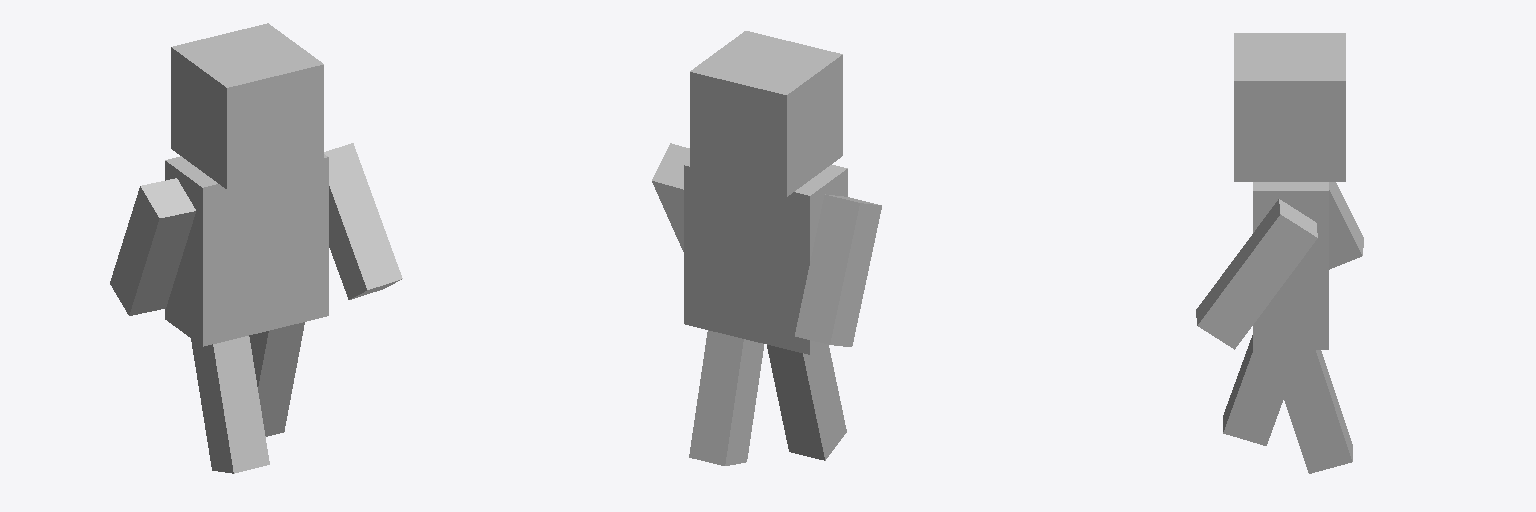
File: humanblock-bone2-walk_30.obj
3 renders of one model, left to right at view 1: azimuth 30°, elevation 25°; view 2: azimuth 150°, elevation 25°; view 3: azimuth 270°, elevation 25°, orthographic.
Visible parts, largest first — view 1: Cube.001_Cube.005, Cube_Cube.004, Cube.008_Cube.002, Cube.004_Cube.008, Cube.002_Cube.006, Cube.005_Cube.009; view 2: Cube_Cube.004, Cube.001_Cube.005, Cube.008_Cube.002, Cube.005_Cube.009, Cube.004_Cube.008, Cube.002_Cube.006; view 3: Cube_Cube.004, Cube.001_Cube.005, Cube.002_Cube.006, Cube.005_Cube.009, Cube.004_Cube.008, Cube.008_Cube.002.
Part boxes in pixels (x1,y1,x2,y2): Cube.001_Cube.005: (165, 154, 328, 346); Cube_Cube.004: (171, 23, 323, 189); Cube.008_Cube.002: (110, 178, 195, 315); Cube.004_Cube.008: (191, 336, 269, 473); Cube.002_Cube.006: (324, 143, 402, 299); Cube.005_Cube.009: (249, 322, 304, 436); Cube_Cube.004: (690, 31, 842, 196); Cube.001_Cube.005: (684, 161, 847, 354); Cube.008_Cube.002: (795, 194, 881, 346); Cube.005_Cube.009: (689, 330, 763, 465); Cube.004_Cube.008: (767, 344, 846, 460); Cube.002_Cube.006: (652, 143, 689, 251); Cube_Cube.004: (1234, 33, 1345, 181); Cube.001_Cube.005: (1253, 182, 1328, 349); Cube.002_Cube.006: (1196, 199, 1317, 349); Cube.005_Cube.009: (1268, 350, 1352, 473); Cube.004_Cube.008: (1223, 335, 1283, 445); Cube.008_Cube.002: (1329, 182, 1363, 269).
Bounding box in the file's own units: 3.35 × 5.99 × 2.32.